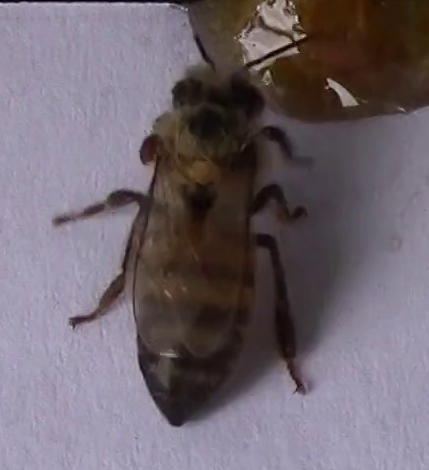Varroa destructor: (134, 133, 161, 167)
